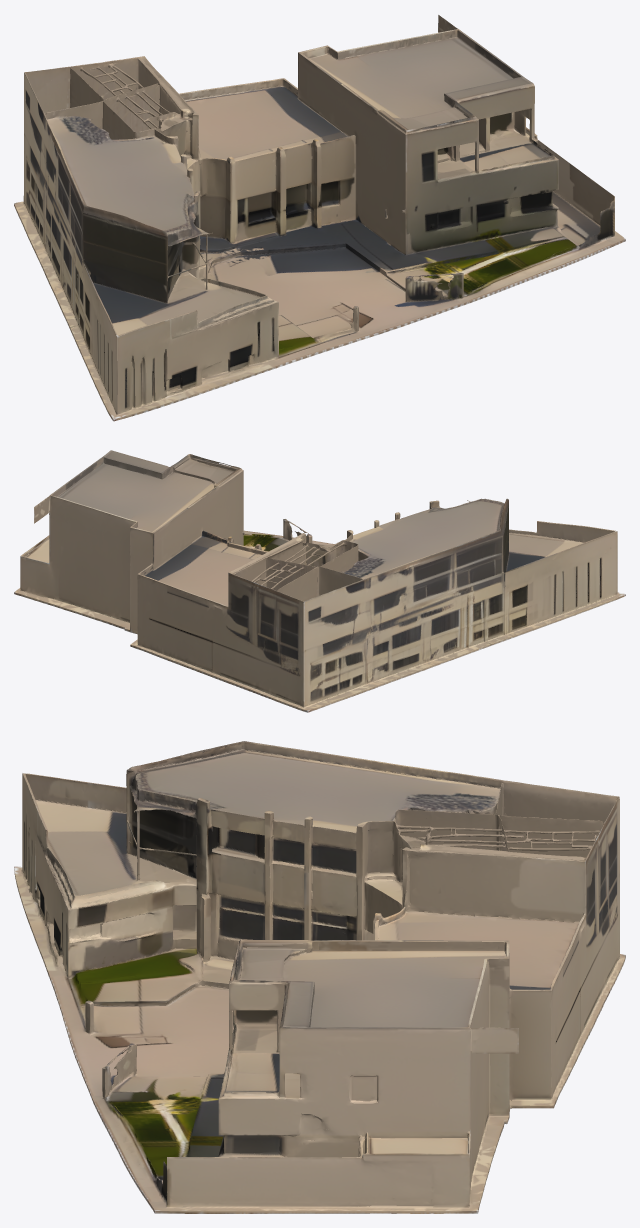
File: complexo_moderno.glb
3 renders of one model, top to bottom at view 1: azimuth 30°, elevation 25°; view 2: azimuth 150°, elevation 25°; view 3: azimuth 270°, elevation 25°, orthographic. The views are drawn at different scales.
Visible parts, largest first — view 1: Object_3, Object_4, Object_2; view 2: Object_3, Object_4, Object_2; view 3: Object_3, Object_4, Object_2.
Boxes of the visible parts, <box> form: Object_3: <box>25,28,625,412</box>; Object_4: <box>14,15,625,421</box>; Object_2: <box>23,28,614,414</box>; Object_3: <box>14,454,536,708</box>; Object_4: <box>14,450,625,712</box>; Object_2: <box>20,454,617,711</box>; Object_3: <box>16,750,622,1213</box>; Object_4: <box>14,741,625,1210</box>; Object_2: <box>23,744,620,1211</box>.
Bounding box in the file's own units: 1.9 × 0.4266 × 1.42.
1 material, 1 textured.
